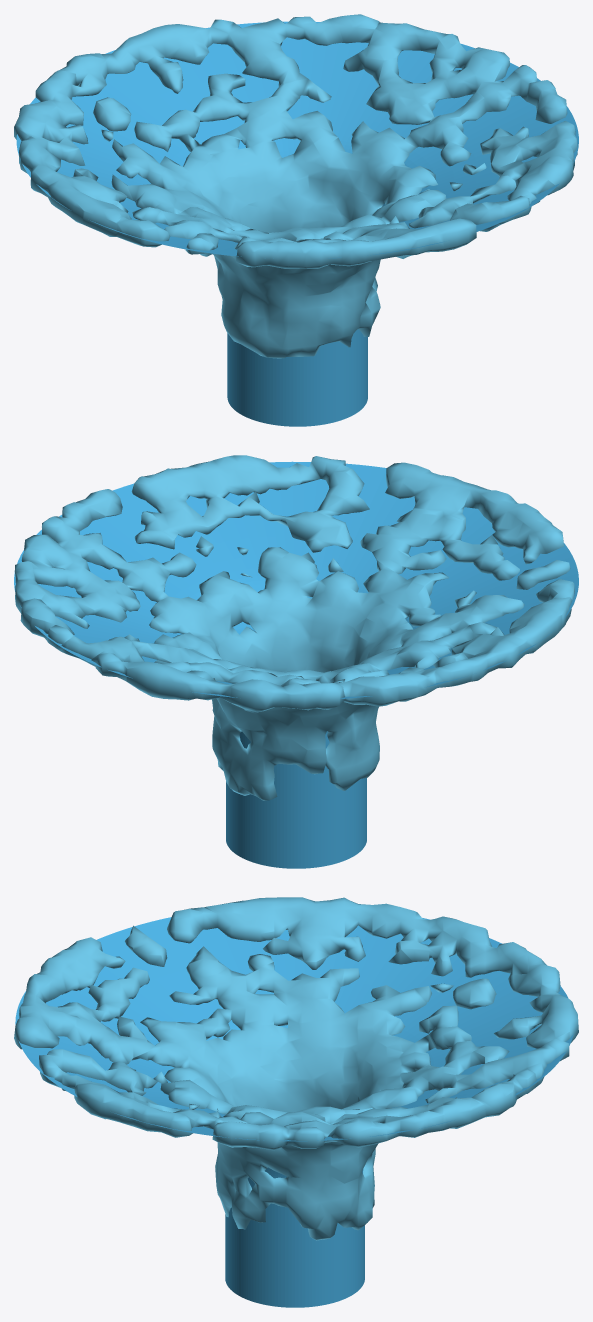
File: whirlpool.fbx
The picture shows the model from 3 angles, top to bottom: view 1: azimuth 30°, elevation 25°; view 2: azimuth 150°, elevation 25°; view 3: azimuth 270°, elevation 25°; orthographic projection.
Visible parts, largest first — view 1: Mball, Cylinder; view 2: Mball, Cylinder; view 3: Mball, Cylinder.
Boxes of the visible parts, box(x1,y1,x2,y2) form: Mball: box(14, 14, 577, 358); Cylinder: box(16, 21, 578, 426); Mball: box(14, 455, 574, 800); Cylinder: box(14, 461, 578, 868); Mball: box(14, 897, 578, 1240); Cylinder: box(15, 917, 573, 1307).
Bounding box in the file's own units: 796 × 422 × 803.
